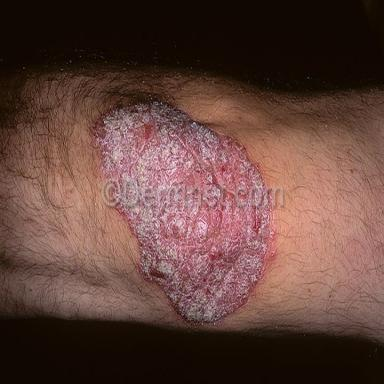Psoriasis: (116, 201, 274, 326), (92, 100, 262, 186)
